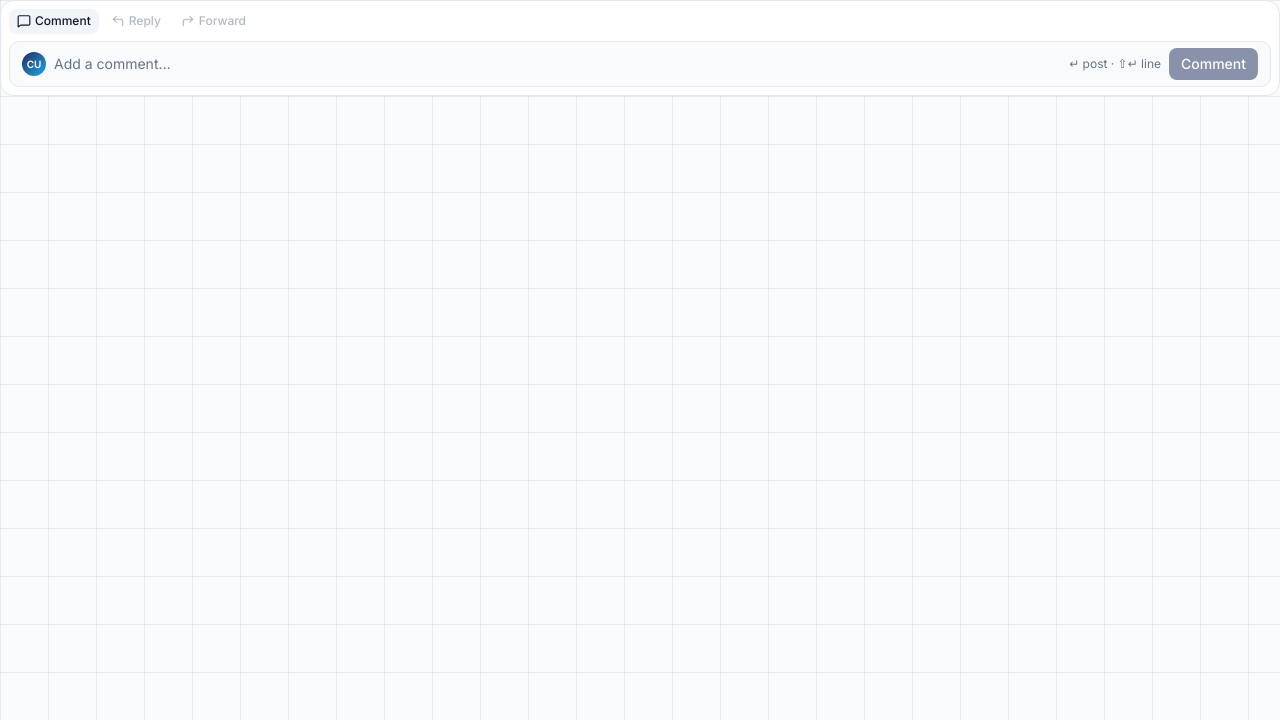
Scenario: ActivityPanel collaboration entry points › keeps the comment draft when the server rejects it
Type "Hello" into the text box labelled "comment". click: (558, 64)
box: x1=54 y1=50 x2=1061 y2=78
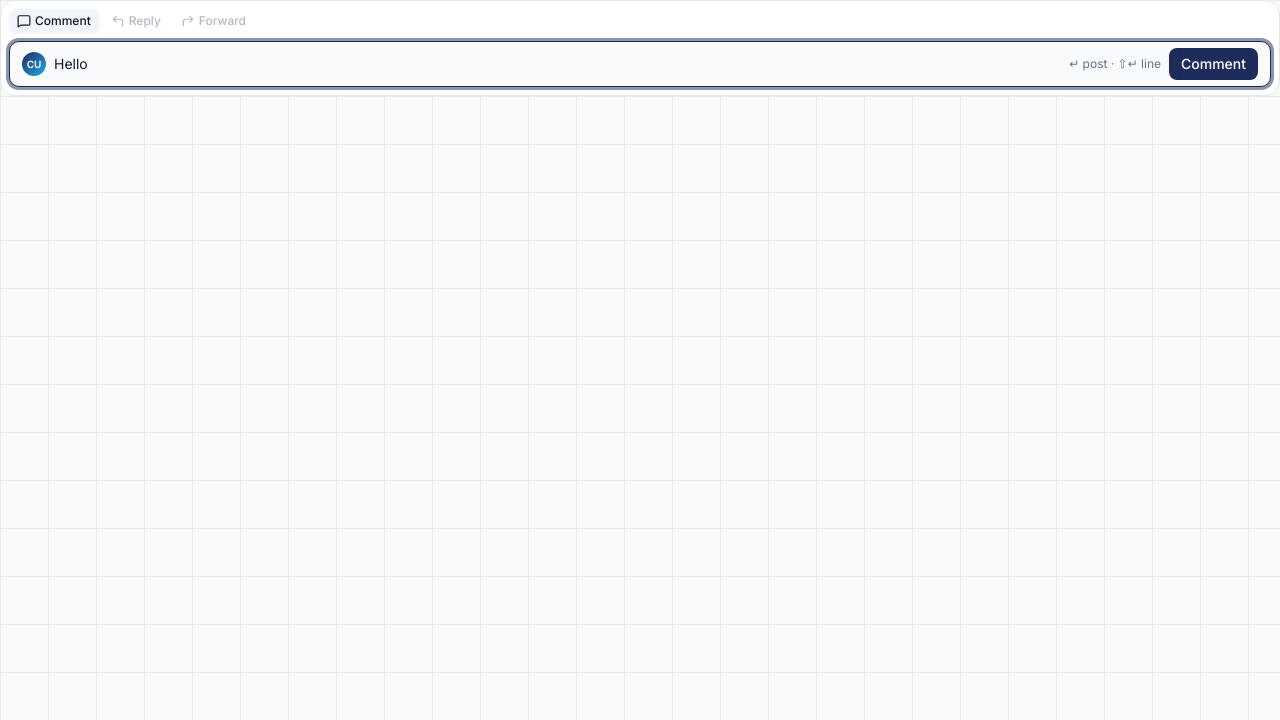
Click the button "Comment". click: (1214, 64)
box: x1=1169 y1=48 x2=1258 y2=80
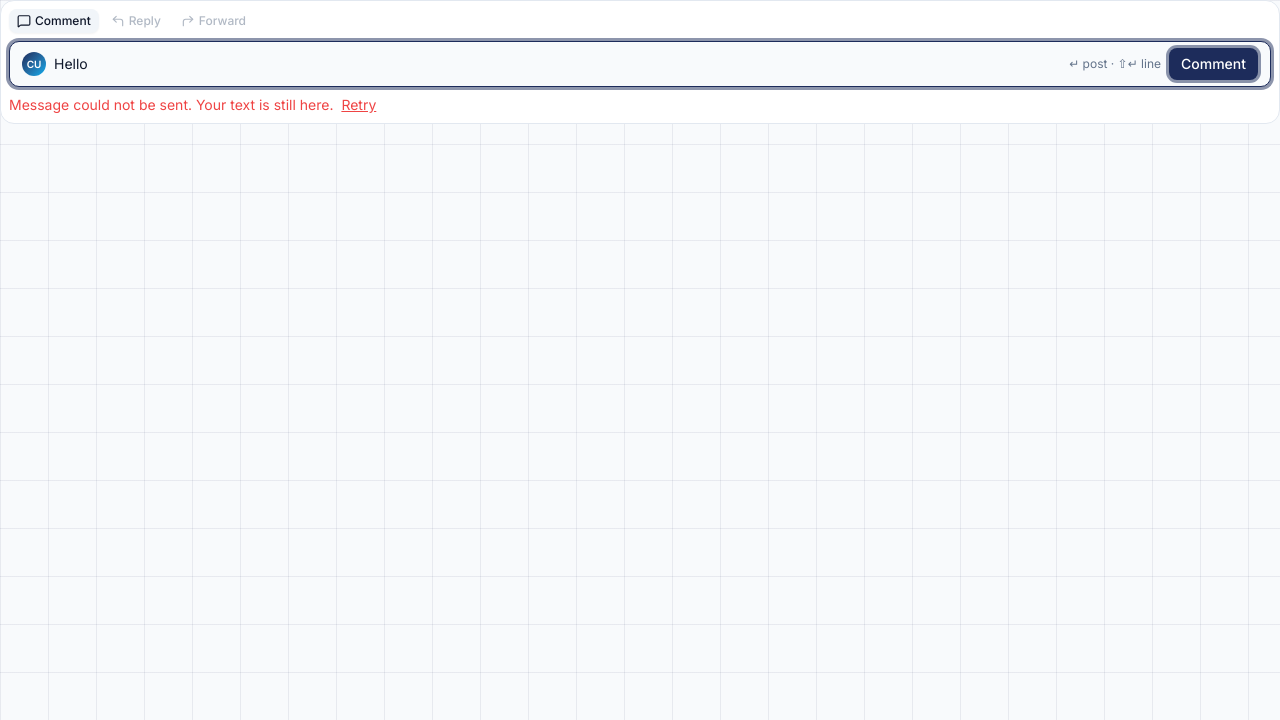
Check: the message shows "Your text is still here.", box x1=9 y1=96 x2=334 y2=113
